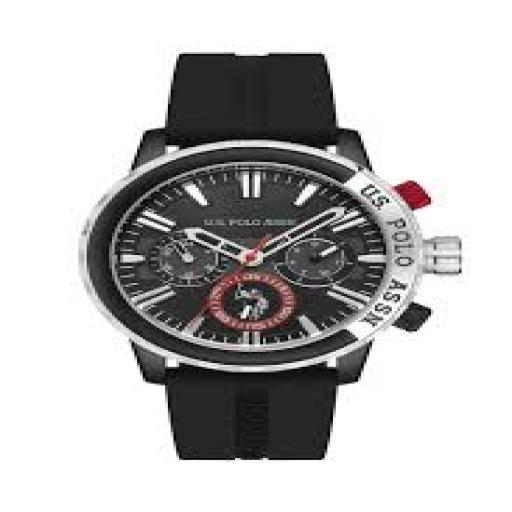KolSaati: (78, 36, 462, 485)
